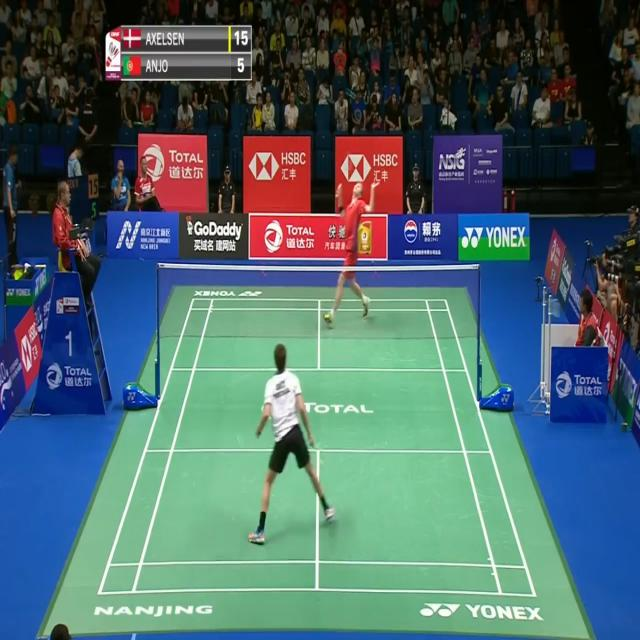Player1: (244, 338, 341, 556)
Player2: (318, 165, 379, 336)
